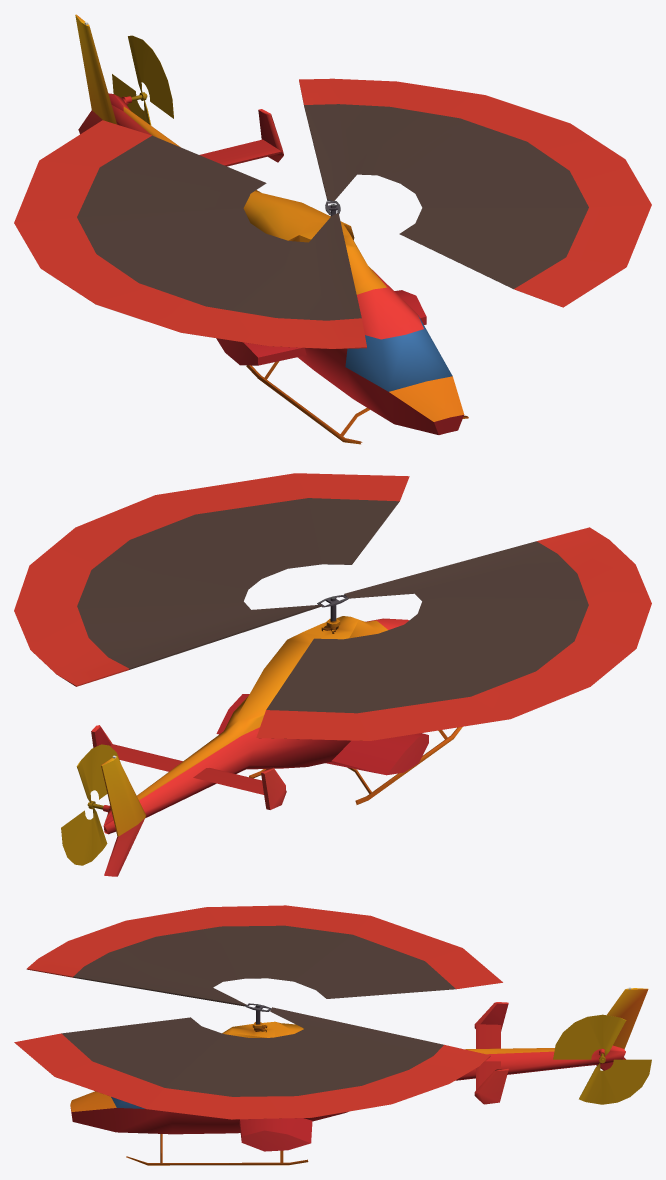
3 views of the same model, one above another, from view 1: azimuth 30°, elevation 25°; view 2: azimuth 150°, elevation 25°; view 3: azimuth 270°, elevation 25° (orthographic). The views are drawn at different scales.
Visible parts, largest first — view 1: anim_0_neg500_0.001; view 2: anim_0_neg500_0.001; view 3: anim_0_neg500_0.001.
Boxes of the visible parts, bbox=[...] form: anim_0_neg500_0.001: bbox=[14, 14, 651, 444]; anim_0_neg500_0.001: bbox=[14, 473, 651, 876]; anim_0_neg500_0.001: bbox=[14, 905, 651, 1165].
Bounding box in the file's own units: 0.397 × 0.1319 × 0.5.
